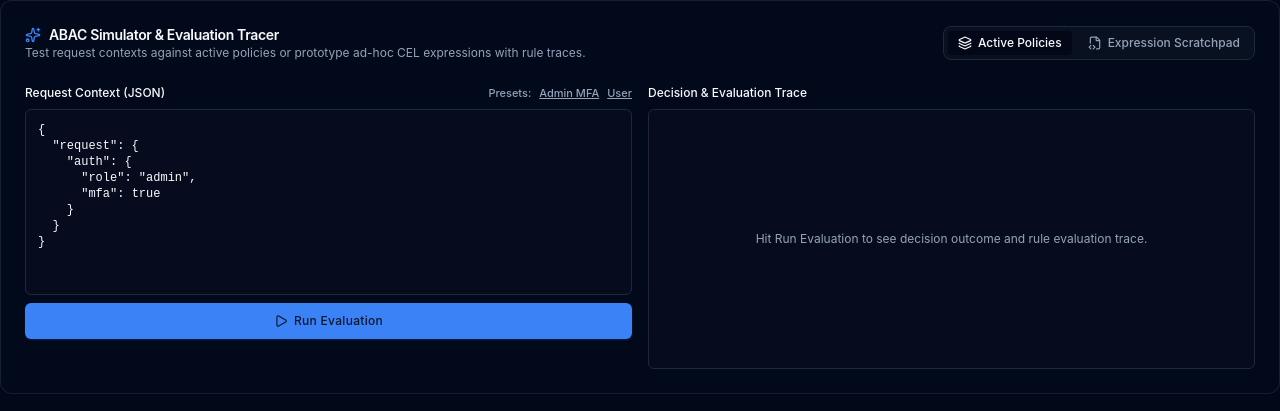
Test: Themis UI Components › DryRunPlayground should display Passed when evaluation is successful
What coordinates should you click on to do the following:
click the button "Run Evaluation"
I would click on:
 (328, 321)
Its box is [25,303,632,339].
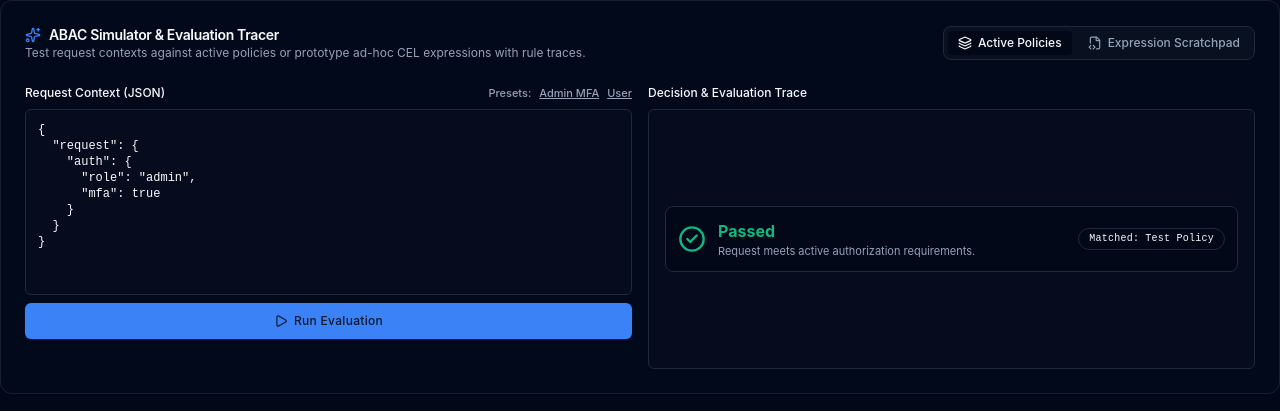
Now the heading "Passed" is shown, box [718,221,775,241]
Now the text "Test Policy" is shown, box [1145,231,1214,247]
